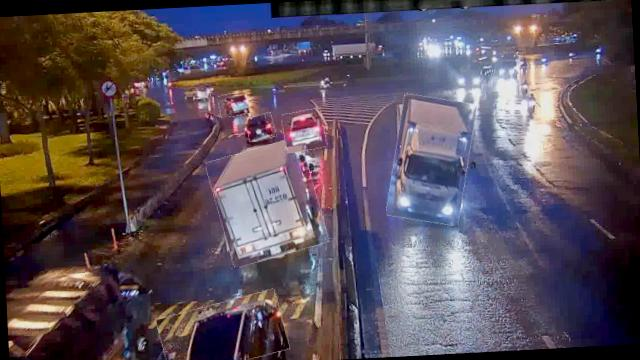Car: (156, 294, 287, 360), (282, 108, 326, 152), (244, 113, 274, 141), (218, 92, 248, 118), (192, 88, 210, 100)
Truck: (210, 140, 324, 264), (385, 92, 477, 226)
